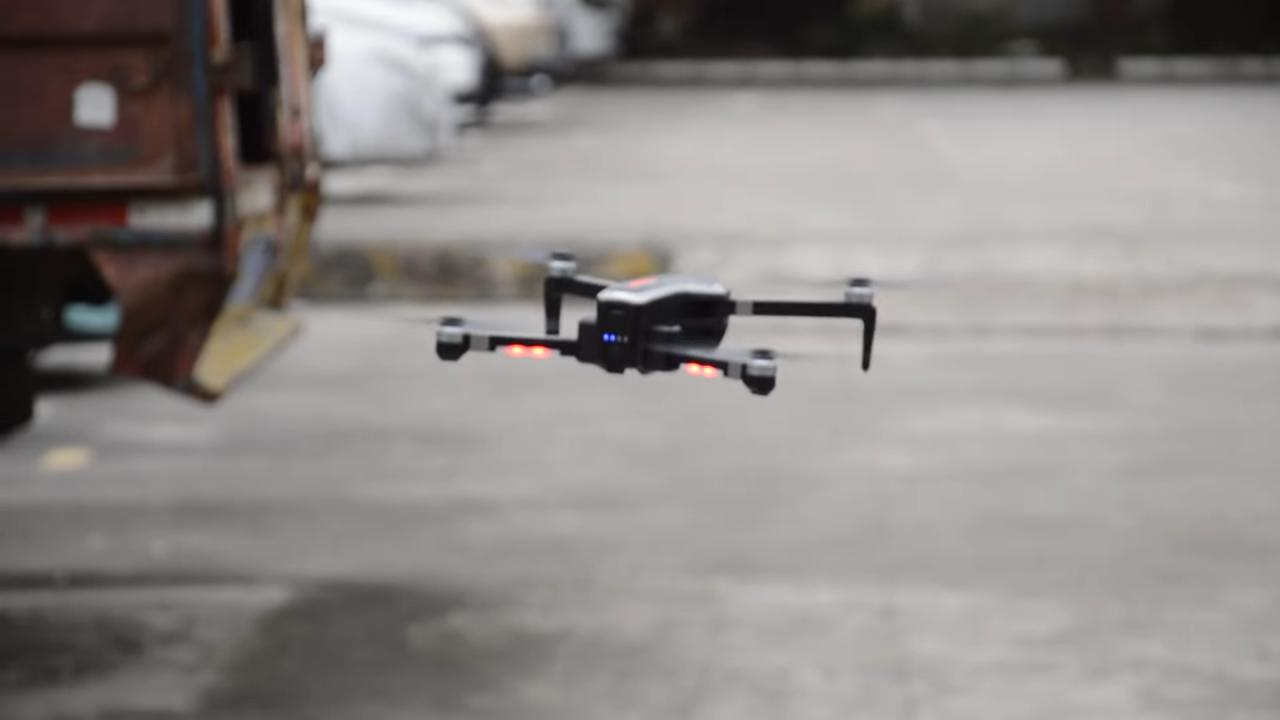Drone: (388, 223, 906, 412)
